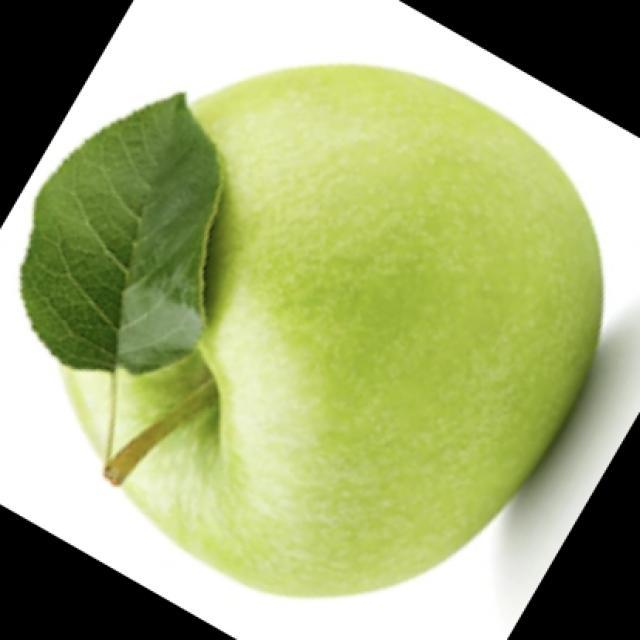Fresh Apple: (110, 65, 587, 592)
